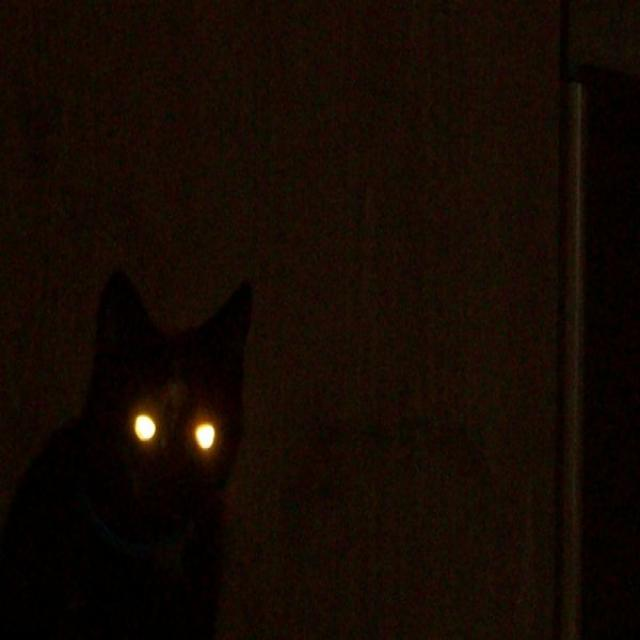Cat: (6, 246, 256, 640)
